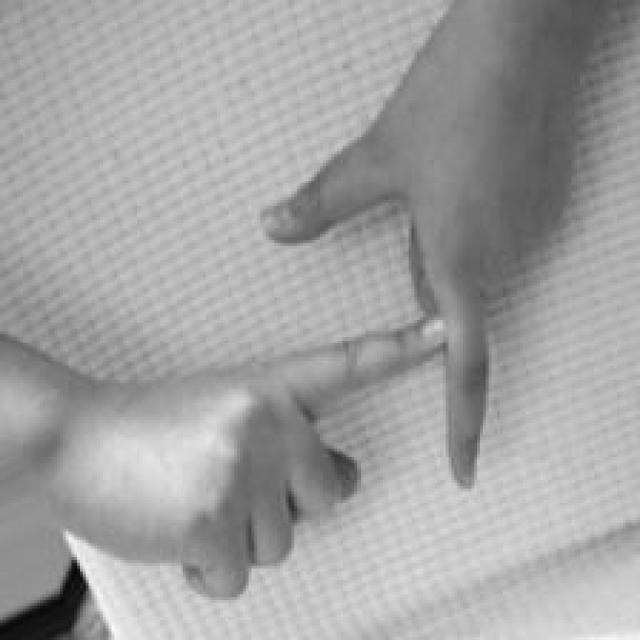F: (131, 126, 568, 597)
